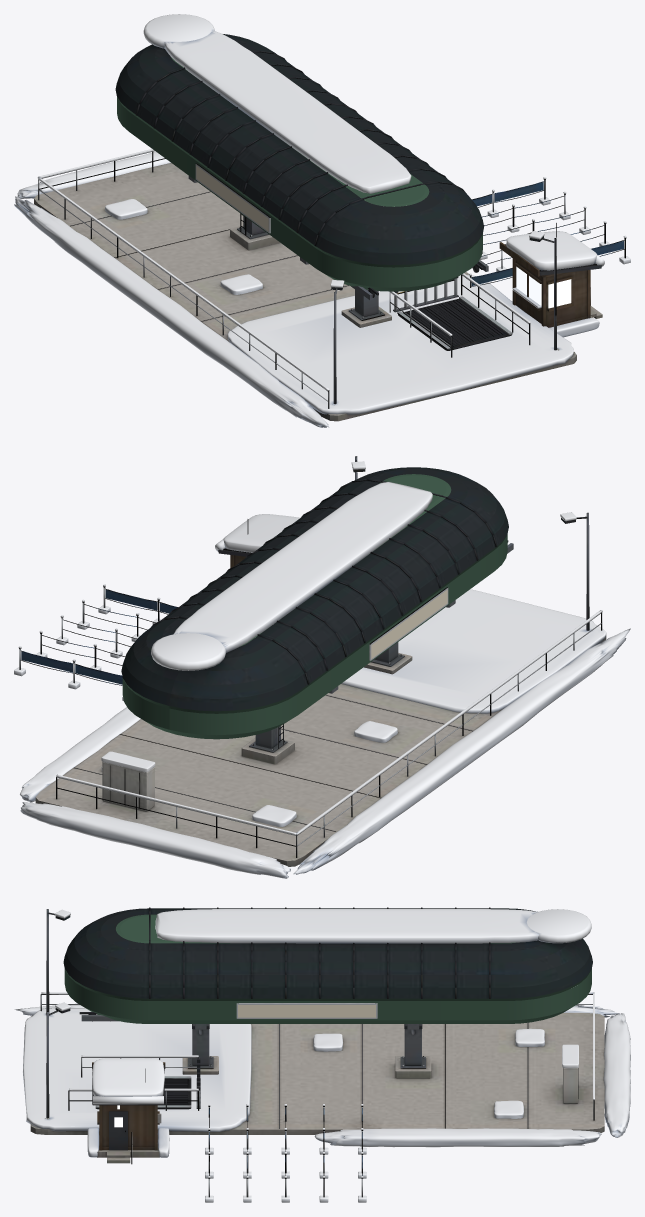
Rendered from terminal_detach_omega.glb.
3 views of the same model, one above another, from view 1: azimuth 30°, elevation 25°; view 2: azimuth 150°, elevation 25°; view 3: azimuth 270°, elevation 25° (orthographic). The views are drawn at different scales.
Visible parts, largest first — view 1: terminal_detach_omega, terminal_detach_omega_snow, terminal_detach_omega_paint, terminal_detach_omega_lit, terminal_detach_omega_flat; view 2: terminal_detach_omega, terminal_detach_omega_snow, terminal_detach_omega_paint, terminal_detach_omega_flat; view 3: terminal_detach_omega, terminal_detach_omega_snow, terminal_detach_omega_paint, terminal_detach_omega_flat.
Part boxes in pixels (left/top/right/bottom): terminal_detach_omega: left=34, top=34, right=626, bottom=421; terminal_detach_omega_snow: left=14, top=14, right=630, bottom=427; terminal_detach_omega_paint: left=117, top=57, right=482, bottom=291; terminal_detach_omega_lit: left=516, top=266, right=571, bottom=308; terminal_detach_omega_flat: left=196, top=166, right=268, bottom=231; terminal_detach_omega: left=19, top=456, right=606, bottom=866; terminal_detach_omega_snow: left=14, top=461, right=630, bottom=878; terminal_detach_omega_paint: left=122, top=474, right=507, bottom=739; terminal_detach_omega_flat: left=371, top=590, right=447, bottom=658; terminal_detach_omega: left=30, top=907, right=604, bottom=1197; terminal_detach_omega_snow: left=14, top=909, right=630, bottom=1202; terminal_detach_omega_paint: left=64, top=914, right=591, bottom=1023; terminal_detach_omega_flat: left=238, top=1005, right=375, bottom=1017.
Size of the model in its own units: 21.41 by 8.65 by 29.03.
7 materials, 1 textured.
